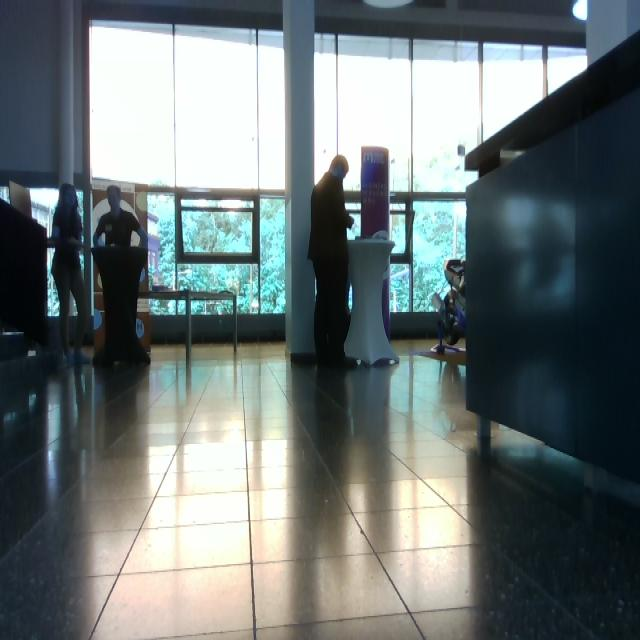light bulb: (361, 146, 390, 240), (219, 199, 246, 211), (572, 1, 588, 21)
person: (307, 154, 359, 369), (92, 185, 151, 368), (47, 184, 91, 366)
pillar: (282, 1, 317, 360), (360, 145, 392, 342)
tiled floor: (2, 337, 639, 638)
window: (89, 18, 287, 320)
